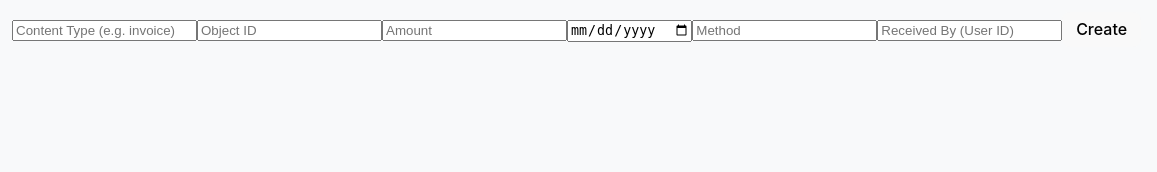
Test: PaymentForm › Error Handling › recovers from API errors on retry
Type "invoice" into the field with placeholder "Content Type (e.g. invoice)". click: (104, 31)
box: [12,20,197,41]
Type "123" into the field with placeholder "Object ID". click: (290, 31)
box: [197,20,382,41]
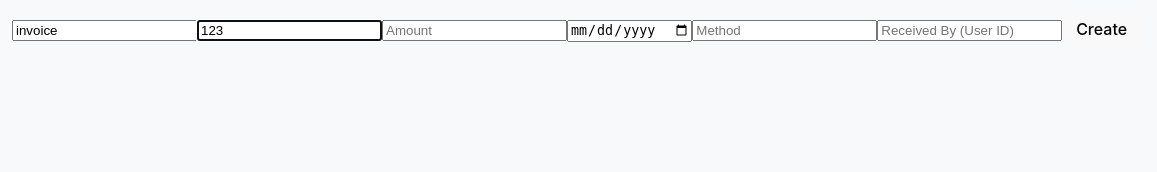
Type "1500" into the number field with placeholder "Amount". click: (474, 31)
box: [382,20,567,41]
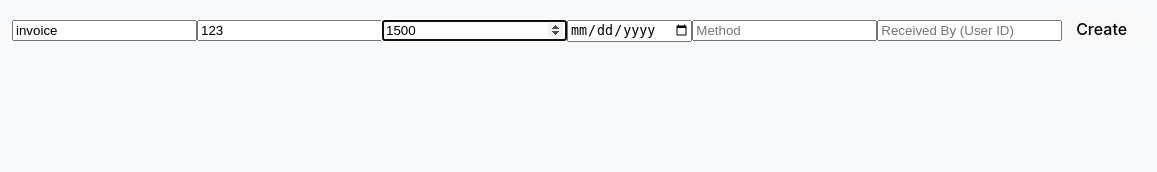
Type "2025-10-02" into the date field named "payment_date". click: (630, 31)
box: [567,20,692,42]
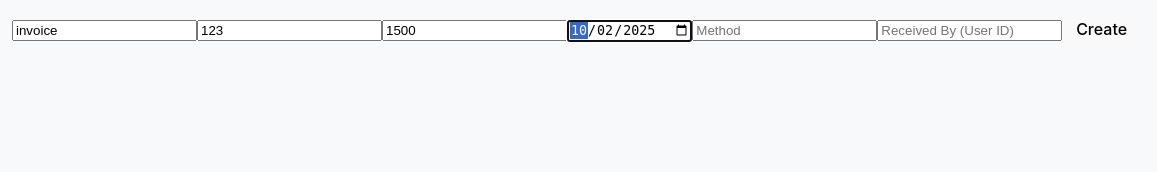
Type "credit_card" into the field with placeholder "Method". click: (785, 31)
box: [692,20,877,41]
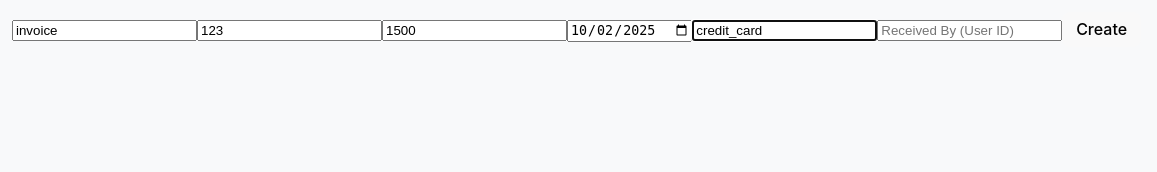
Click the button "Create". click: (1102, 29)
box: [1062,12,1141,47]
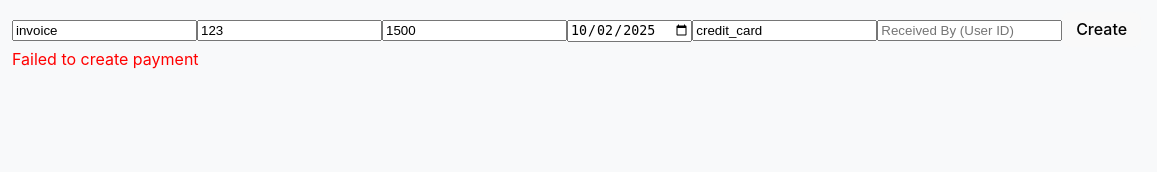
Now the text "Failed to create payment" is shown, box [12,49,199,69]
Click the button "Create". click: (1102, 29)
box: [1062,12,1141,47]
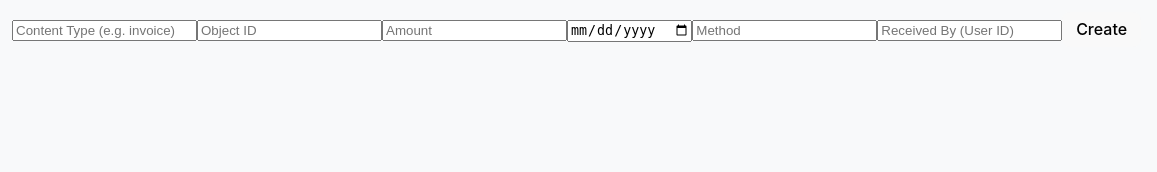
Now the text "Failed to create payment" is gone
